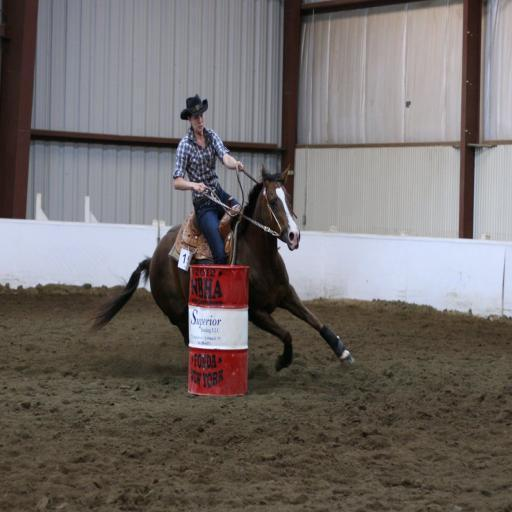horse: (88, 162, 356, 374)
